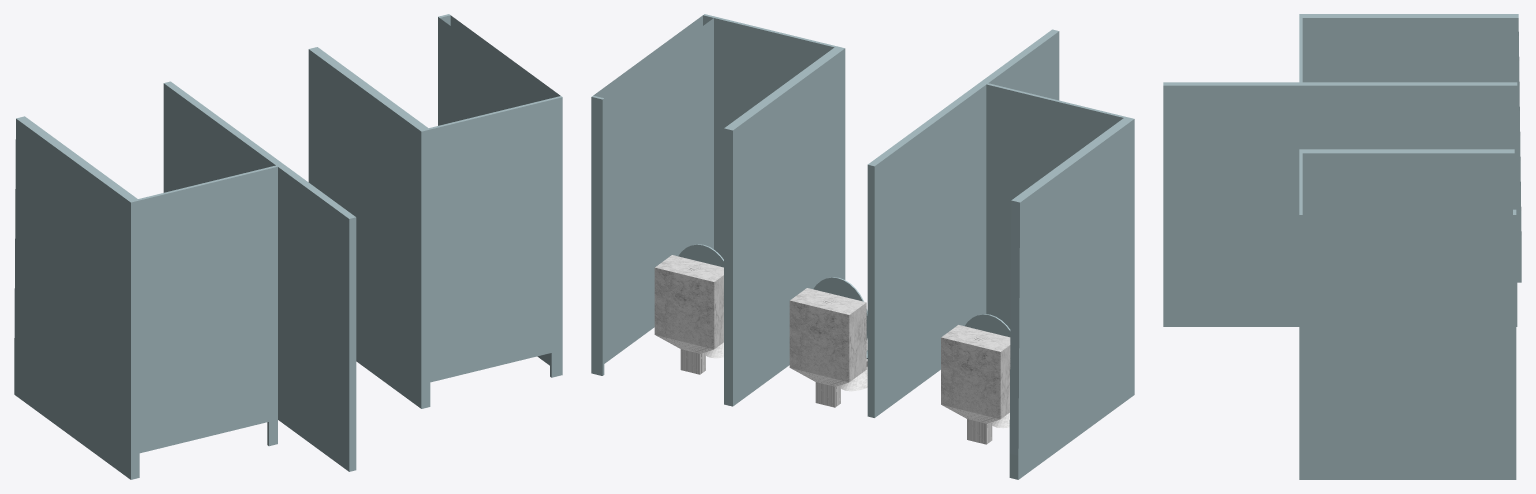
The model's file is cabines.obj.
3 views of the same model, side by side, from view 1: azimuth 30°, elevation 25°; view 2: azimuth 150°, elevation 25°; view 3: azimuth 270°, elevation 25° (orthographic). The views are drawn at different scales.
Visible parts, largest first — view 1: Cube.001, Cube.002, Cube; view 2: Cube.002, Cube.001, Cube, privada, privada.001, privada.002; view 3: Cube.002, Cube, Cube.001.
Boxes of the visible parts, box(x1,y1,x2,y2) form: Cube.001: box(14, 116, 272, 479); Cube.002: box(308, 14, 562, 408); Cube: box(163, 81, 356, 471); Cube.002: box(591, 14, 845, 406); Cube.001: box(991, 84, 1134, 479); Cube: box(867, 29, 1059, 417); privada: box(789, 277, 867, 407); privada.001: box(654, 244, 723, 374); privada.002: box(941, 314, 1010, 444); Cube.002: box(1299, 149, 1516, 479); Cube: box(1163, 80, 1517, 326); Cube.001: box(1299, 14, 1521, 282).
Size of the model in its own units: 28.58 by 17.58 by 21.56.
